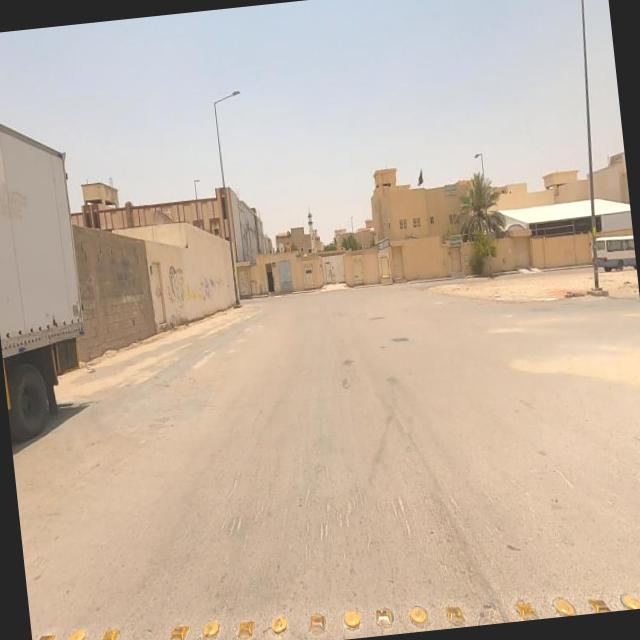debris: (145, 232, 214, 331), (173, 244, 253, 328)
